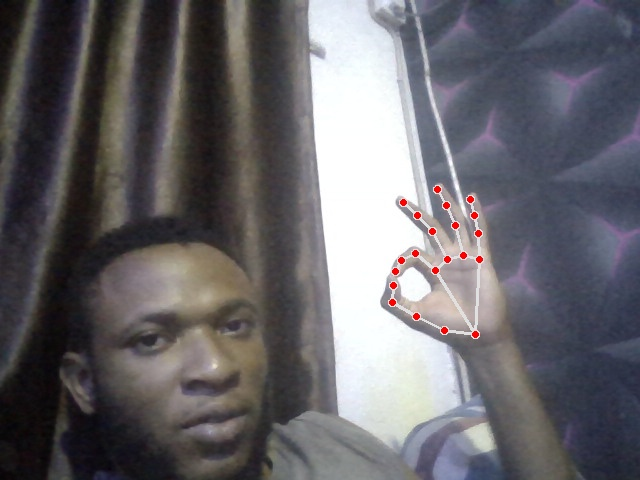okay: (380, 183, 510, 344)
